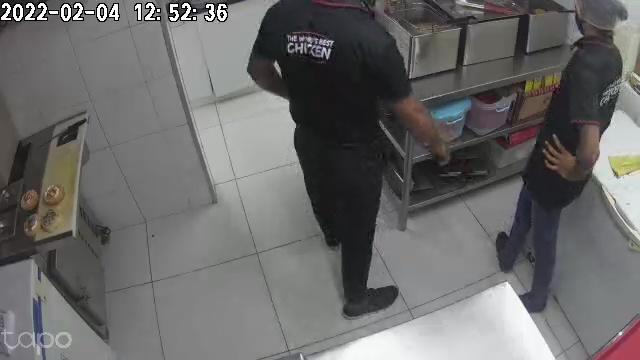no_gloves: (545, 135, 576, 179)
